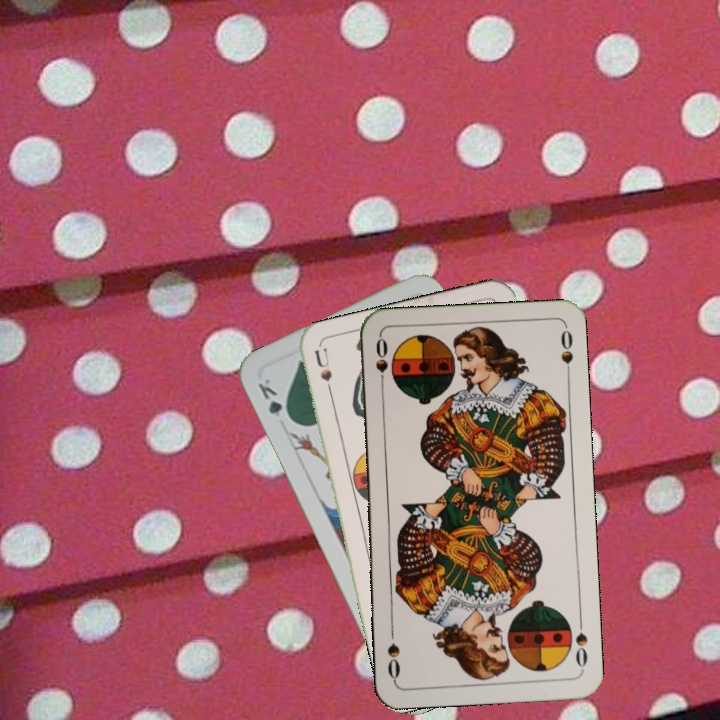GK: (253, 374, 295, 426)
SO: (371, 333, 391, 393), (572, 614, 590, 673)
SU: (311, 345, 337, 405)
